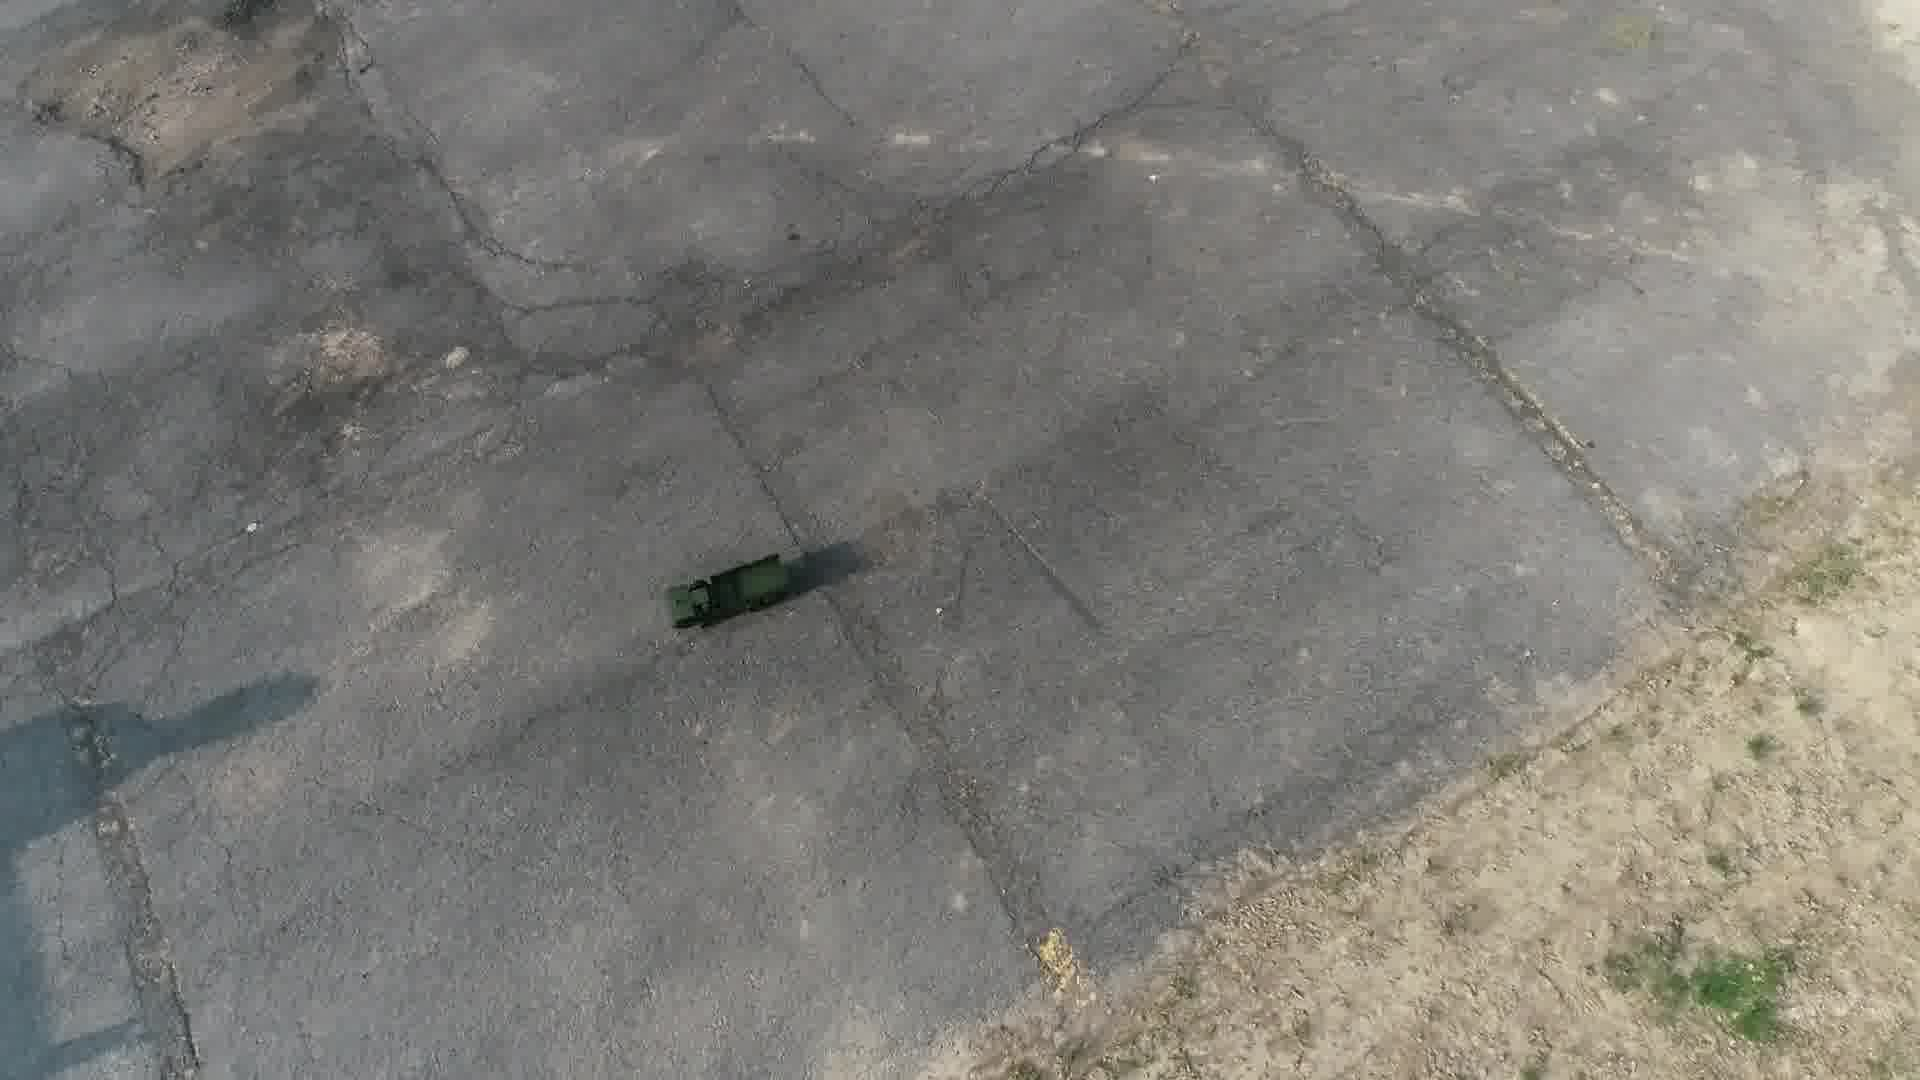transporter9: (658, 546, 796, 636)
